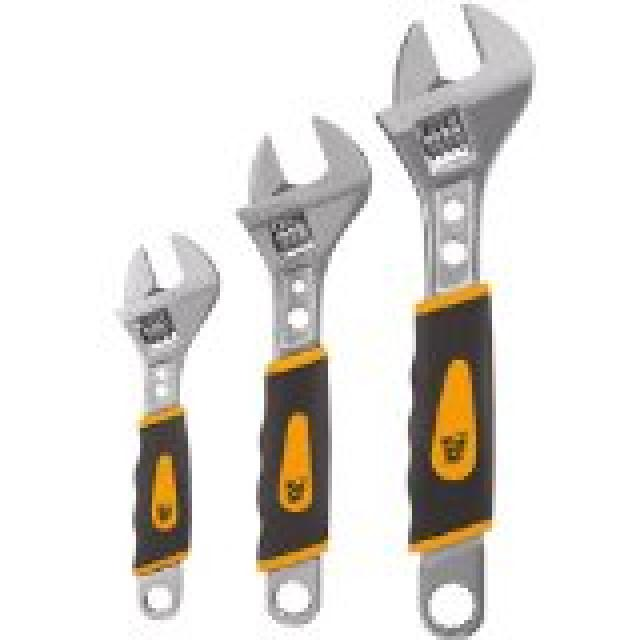wrench: (372, 0, 640, 632), (226, 115, 370, 630), (86, 224, 222, 632)
